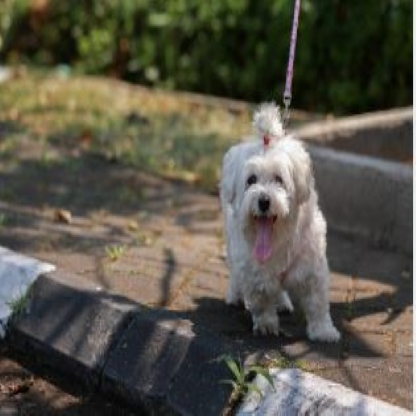maltese: (214, 100, 352, 349)
